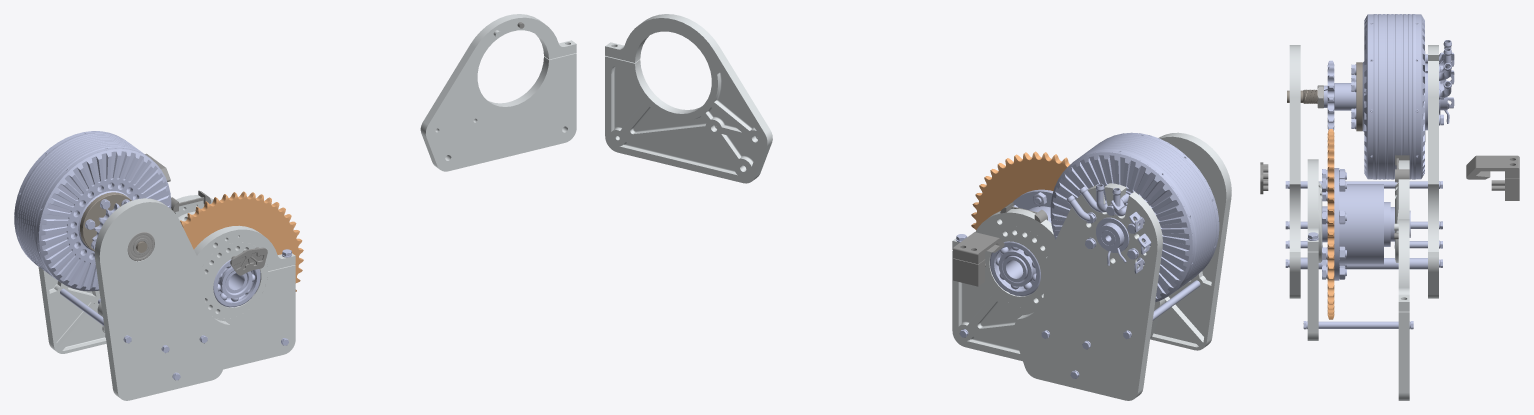
File: 1-0-drivetrain4v.glb
The picture shows the model from 3 angles, left to right: view 1: azimuth 30°, elevation 25°; view 2: azimuth 150°, elevation 25°; view 3: azimuth 270°, elevation 25°; orthographic projection. The views are drawn at different scales.
Visible parts, largest first — view 1: 1.18.MotorMountingFront2.1:1, =>[0:1:1:67], disc_rotor_front_ass_228.step:1, 1.10.Diff_Mount_1:1, ring_binding_rotor_lc_228_1.step:1, 1.4.530_50T:1, 1.10.MotorMountingBack:1, 1.12.Eccentric_1.2:1, 1.19.Diff_Mount_2:1, 1.2.Hayabusa_Emrax_Shaft_V4:1, 1.6.bearing_rls_12_2_01:1; view 2: 1.10.MotorMountingBack:1, =>[0:1:1:67], disc_rotor_back_ass_228.step:1, 1.18.MotorMountingFront2.1:1, 1.10.Diff_Mount_1:2, ring_binding_rotor_lc_228_1.step:1, 1.4.530_50T:1, 1.12.Eccentric_1.2:2, 1.5.Quaife_LSD_differential:1, 1.6.bearing_rls_12_2_01:1, resolver_1pp.step:2, 1.6.bearing_rls_12_2_02:1; view 3: ring_binding_rotor_lc_228_1.step:1, 1.5.Quaife_LSD_differential:1, =>[0:1:1:67], 1.18.MotorMountingFront2.1:1, 1.10.MotorMountingBack:1, 1.10.Diff_Mount_1:1, 1.4.530_50T:1, disc_rotor_front_ass_228.step:1, disc_rotor_back_ass_228.step:1, 1.2.Hayabusa_Emrax_Shaft_V4:1, 1.22.SpacerTAB_L:1, 1.10.Diff_Mount_1:2 (+6 smaller).
Part boxes in pixels (x1,y1,x2,y2): 1.18.MotorMountingFront2.1:1: (94,198,233,400); =>[0:1:1:67]: (145,14,576,275); disc_rotor_front_ass_228.step:1: (38,148,171,291); 1.10.Diff_Mount_1:1: (194,225,295,369); ring_binding_rotor_lc_228_1.step:1: (14,131,150,282); 1.4.530_50T:1: (180,191,303,291); 1.10.MotorMountingBack:1: (38,266,106,353); 1.12.Eccentric_1.2:1: (202,242,267,318); 1.19.Diff_Mount_2:1: (214,229,295,369); 1.2.Hayabusa_Emrax_Shaft_V4:1: (80,192,147,252); 1.6.bearing_rls_12_2_01:1: (213,259,260,307); 1.10.MotorMountingBack:1: (1013,183,1162,400); =>[0:1:1:67]: (605,14,1047,286); disc_rotor_back_ass_228.step:1: (1050,152,1193,302); 1.18.MotorMountingFront2.1:1: (1150,132,1231,350); 1.10.Diff_Mount_1:2: (952,208,1055,361); ring_binding_rotor_lc_228_1.step:1: (1070,133,1218,294); 1.4.530_50T:1: (971,151,1069,230); 1.12.Eccentric_1.2:2: (985,226,1050,308); 1.5.Quaife_LSD_differential:1: (1001,189,1053,285); 1.6.bearing_rls_12_2_01:1: (990,241,1040,296); resolver_1pp.step:2: (1096,222,1126,262); 1.6.bearing_rls_12_2_02:1: (998,248,1035,286); ring_binding_rotor_lc_228_1.step:1: (1369,14,1419,179); 1.5.Quaife_LSD_differential:1: (1322,168,1410,280); =>[0:1:1:67]: (1260,155,1519,400); 1.18.MotorMountingFront2.1:1: (1289,45,1300,298); 1.10.MotorMountingBack:1: (1428,45,1438,298); 1.10.Diff_Mount_1:1: (1307,159,1318,340); 1.4.530_50T:1: (1327,129,1334,319); disc_rotor_front_ass_228.step:1: (1362,14,1368,179); disc_rotor_back_ass_228.step:1: (1420,14,1424,179); 1.2.Hayabusa_Emrax_Shaft_V4:1: (1287,62,1362,131); 1.22.SpacerTAB_L:1: (1318,321,1398,328); 1.10.Diff_Mount_1:2: (1398,160,1409,219).
Bounding box in the file's own units: 0.9465 × 0.3908 × 0.3558.
